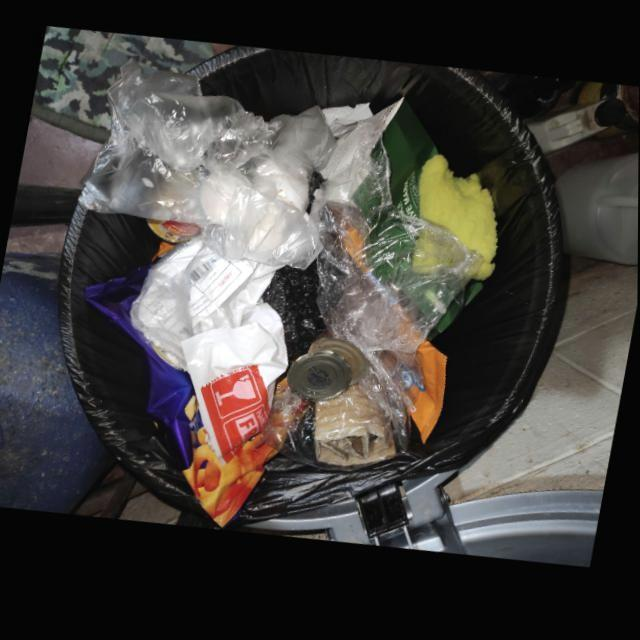aluminum: (287, 355, 353, 406), (308, 342, 369, 390)
food_wrapper: (83, 264, 279, 530), (395, 346, 448, 450)
plastic_bag: (79, 63, 337, 273)
